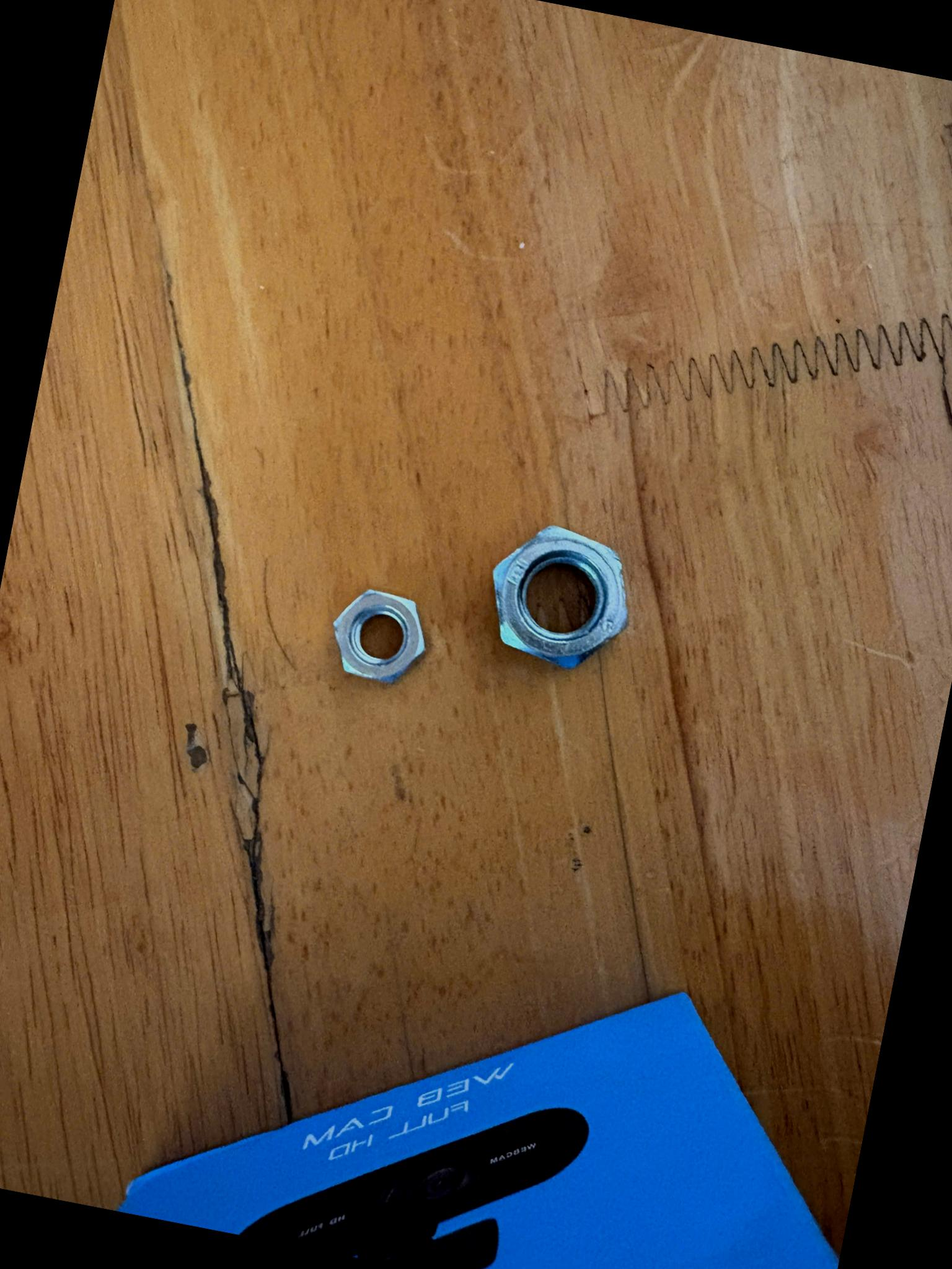nut: (467, 508, 656, 700), (310, 567, 444, 711)
